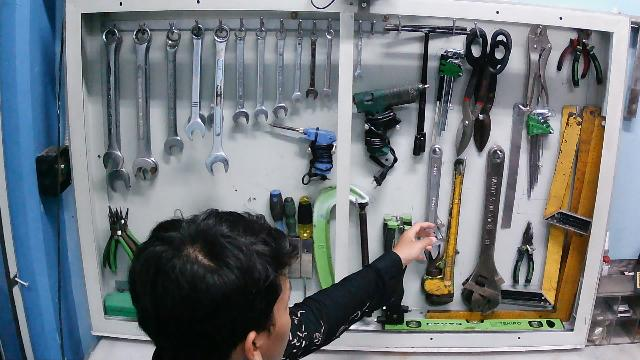kunci_inggris: (415, 143, 445, 262)
